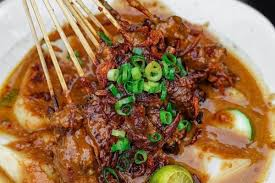sate: (30, 4, 229, 183)
